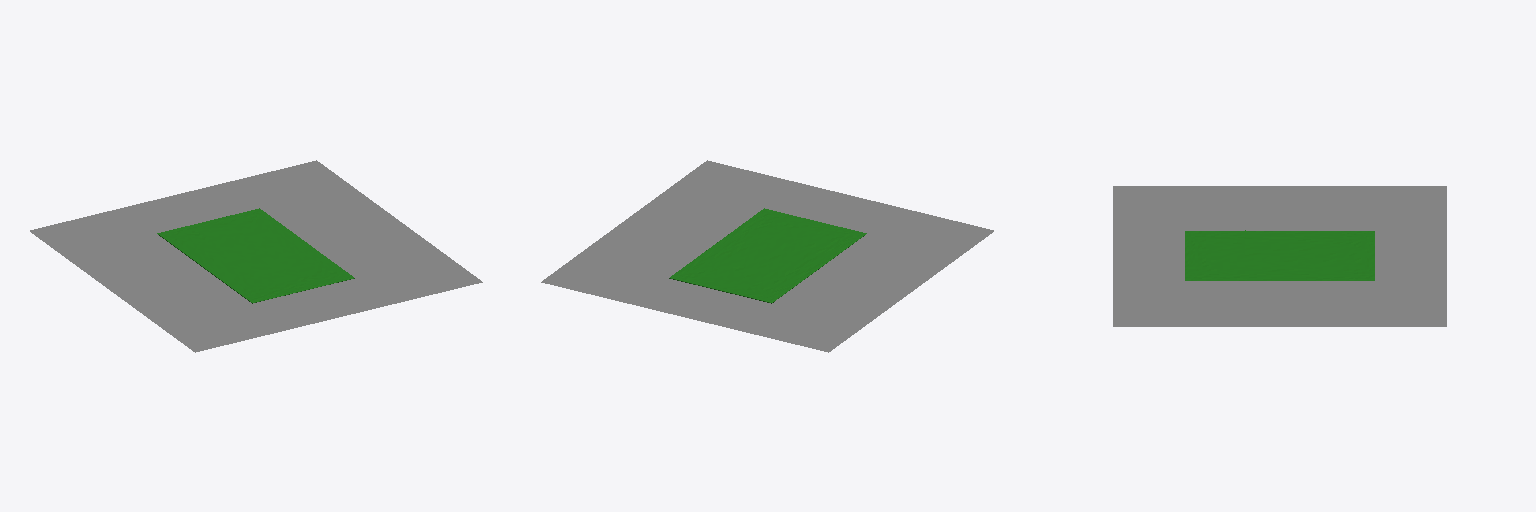
The model's file is MCRR7867_v6_LOD2.obj.
3 renders of one model, left to right at view 1: azimuth 30°, elevation 25°; view 2: azimuth 150°, elevation 25°; view 3: azimuth 270°, elevation 25°, orthographic.
Parts seen in each view (by area): view 1: shadow_plane_v6, not_clear_obj_0_v6; view 2: shadow_plane_v6, not_clear_obj_0_v6; view 3: shadow_plane_v6, not_clear_obj_0_v6.
Boxes of the visible parts, x1=… form: shadow_plane_v6: x1=30, y1=160, x2=482, y2=352; not_clear_obj_0_v6: x1=157, y1=208, x2=354, y2=303; shadow_plane_v6: x1=541, y1=160, x2=993, y2=352; not_clear_obj_0_v6: x1=669, y1=208, x2=866, y2=303; shadow_plane_v6: x1=1113, y1=186, x2=1446, y2=326; not_clear_obj_0_v6: x1=1185, y1=230, x2=1374, y2=280.
Size of the model in its own units: 427 by 1.49 by 427.